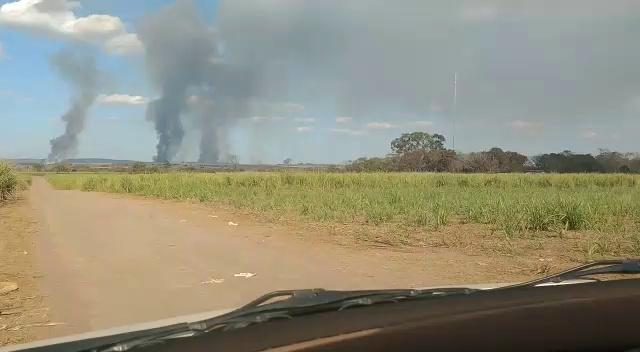smoke: (151, 24, 218, 93)
